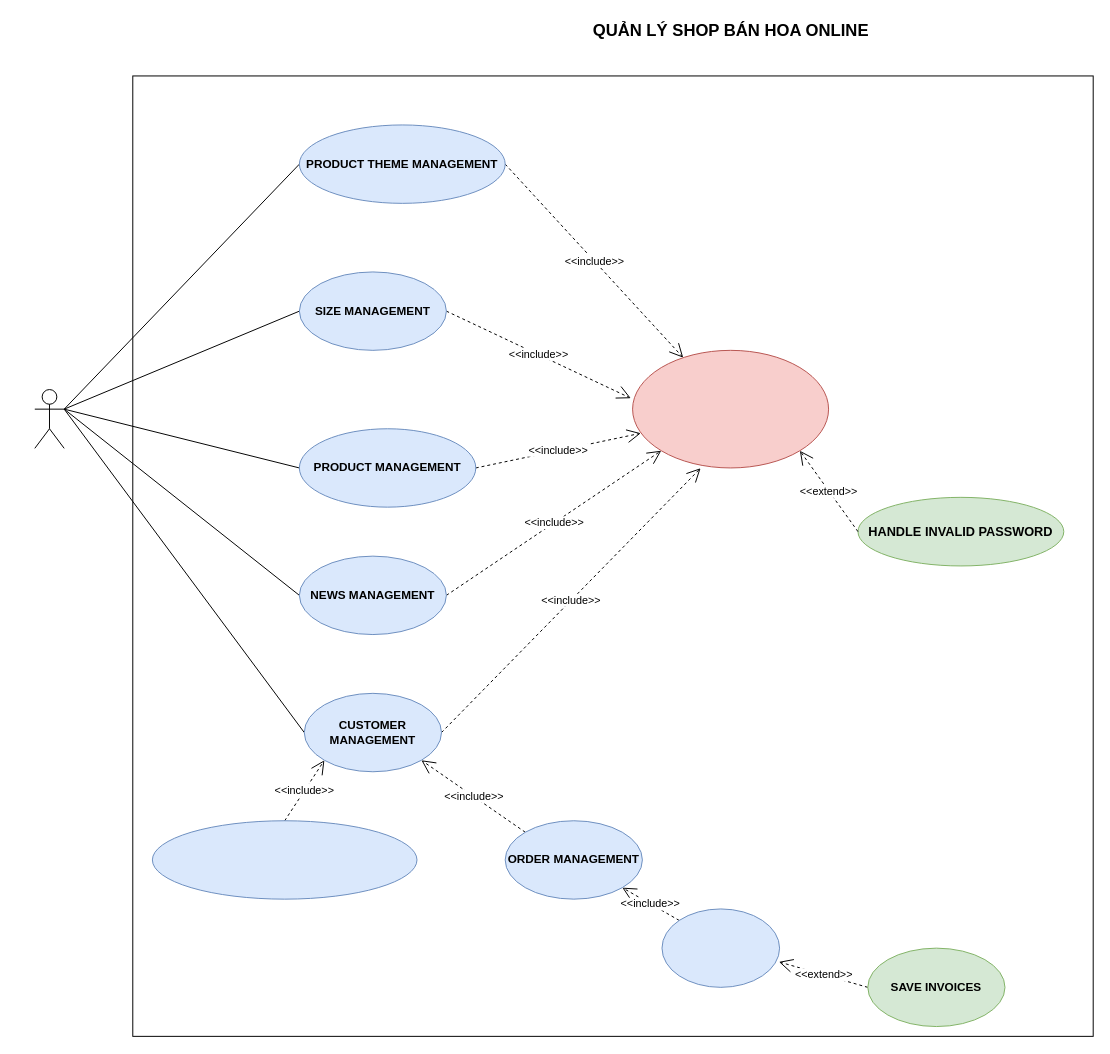
Some shapes in this 1110 by 1054 pixel diagram are drawn without their labels. Here are the shapes that lost their labels. From the top down, the box of each, then its label:
(34, 389, 64, 448): MANAGE
(632, 349, 829, 468): LOGIN
(151, 820, 417, 899): CUSTOMER INFORMATION MANAGEMENT
(661, 908, 780, 987): INVOICING
